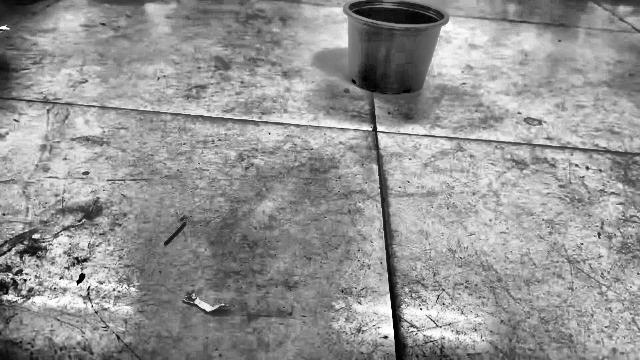pot: (343, 0, 448, 94)
